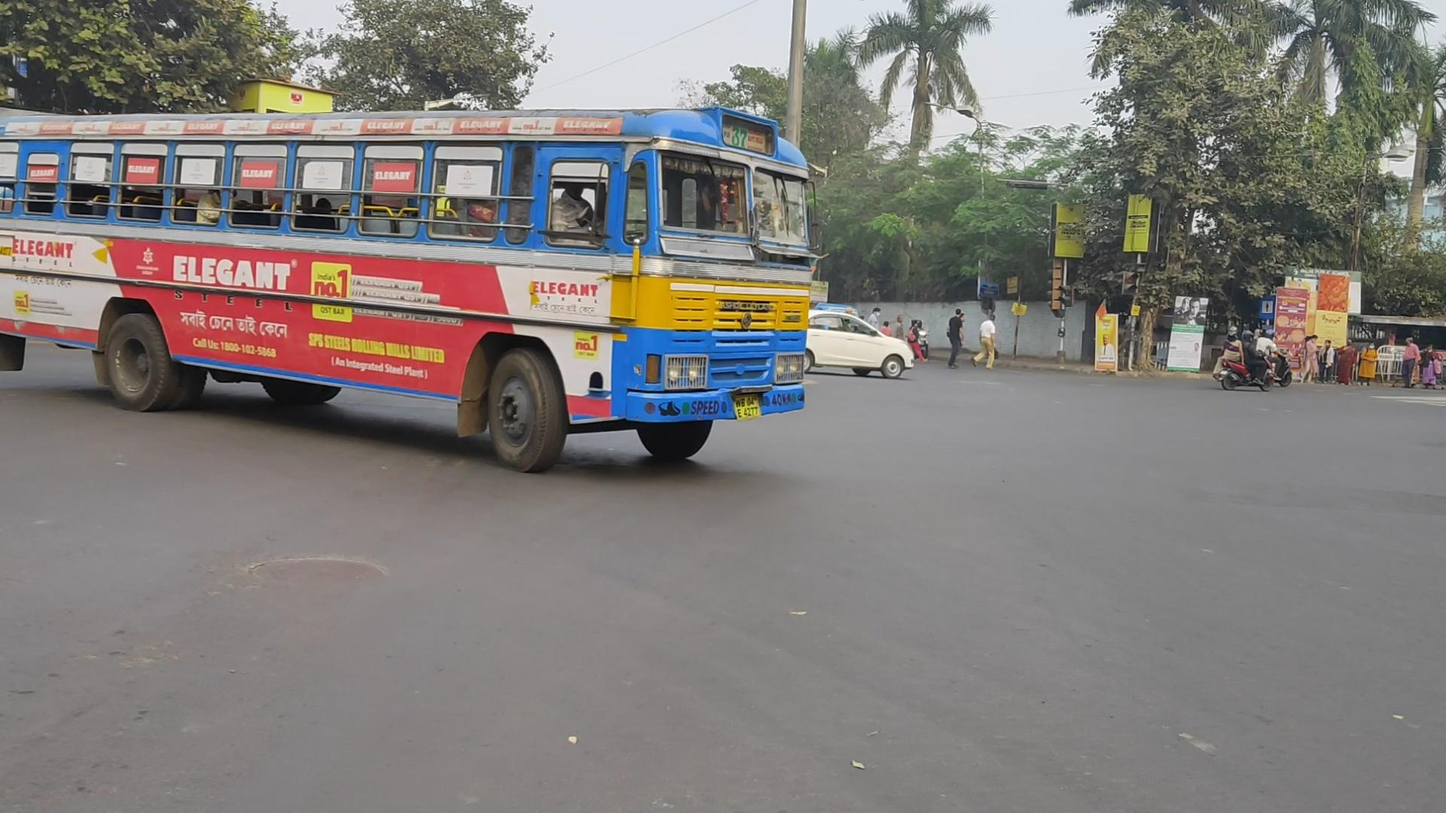Bus: (1, 105, 819, 475)
bike: (1213, 329, 1276, 392), (1249, 330, 1292, 388)
car: (806, 309, 915, 380)
